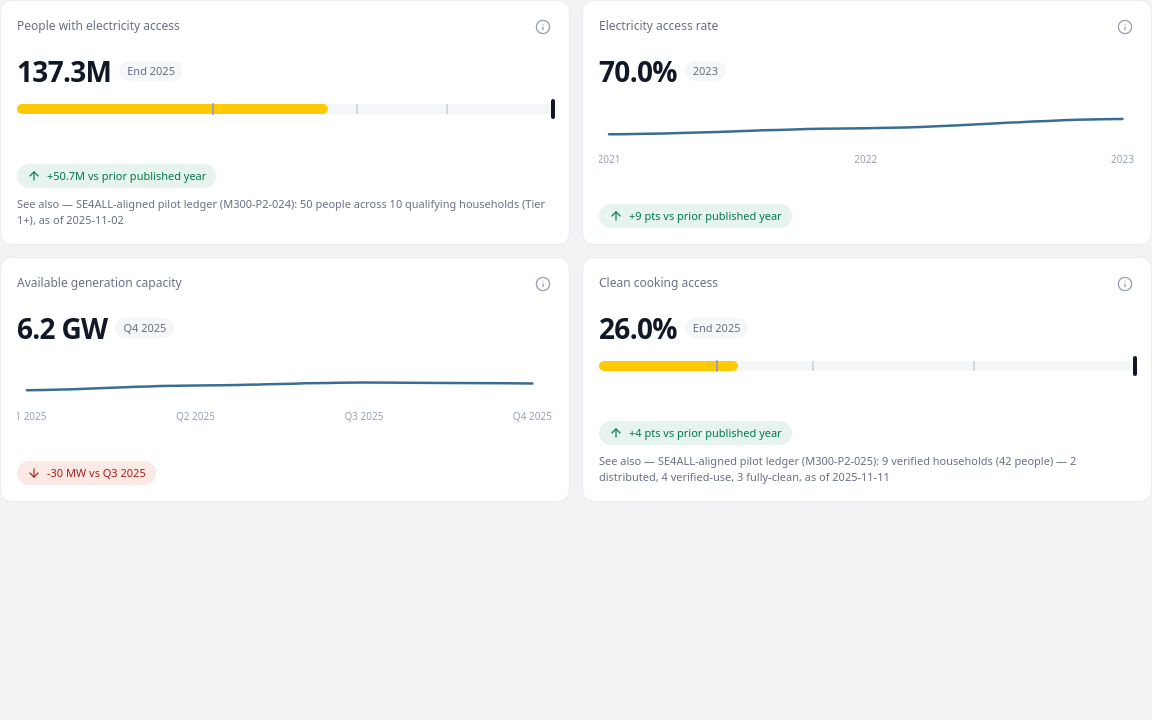
Test: Section A — headline cards › exposes the target through the information popover
Click the button named "About People with electricity access": {"x": 543, "y": 27} [533,17,553,37]
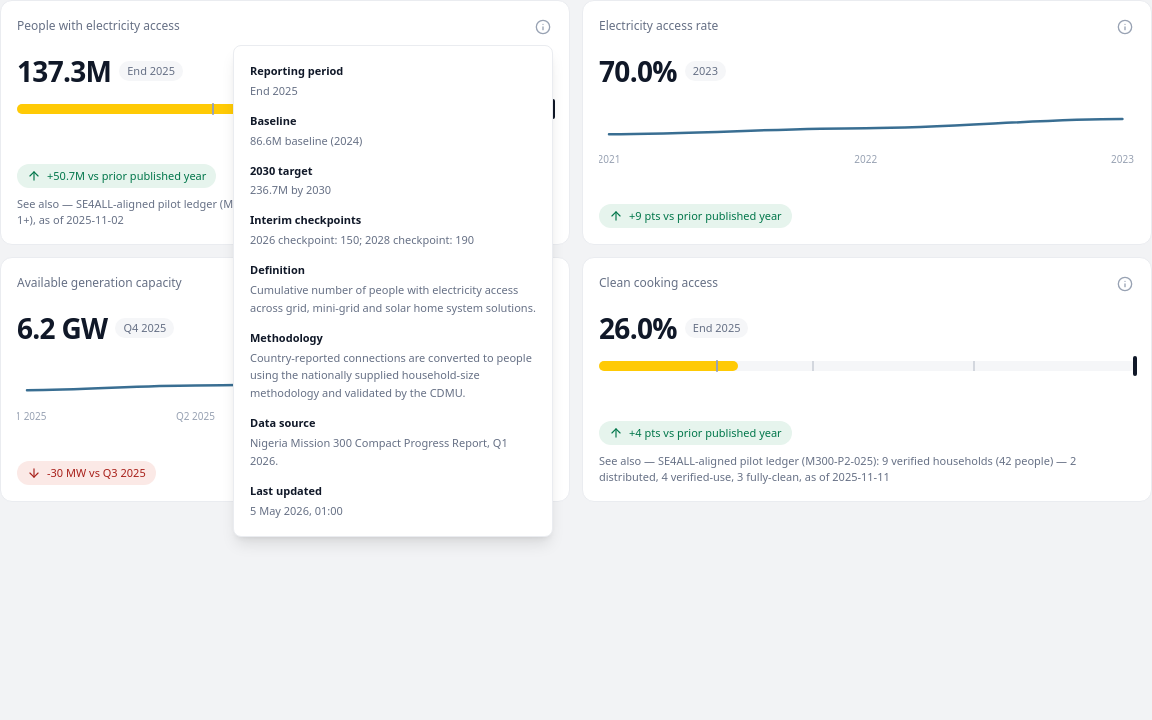
Check: the dialog shows "236.7M by 2030", box [250,182,331,197]
Check: the dialog shows "86.6M baseline (2024)", box [250,133,362,148]
